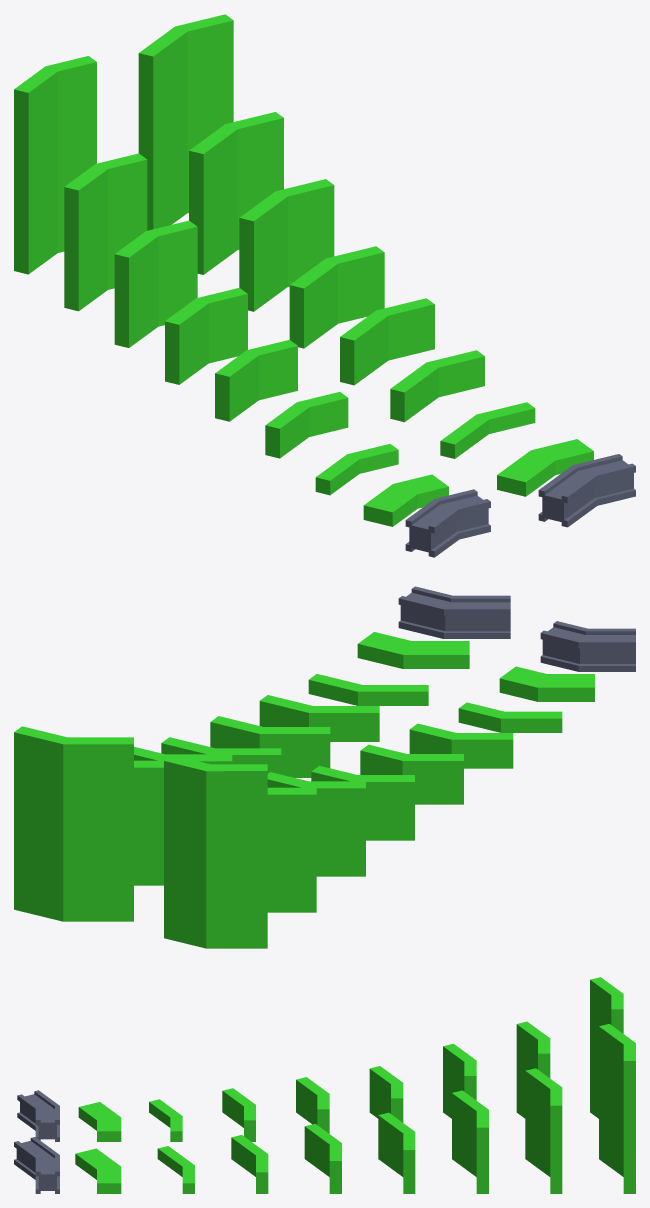
The model's file is Starbase_30Deg_AngledPlates_Cleaned.fbx.
3 views of the same model, one above another, from view 1: azimuth 30°, elevation 25°; view 2: azimuth 150°, elevation 25°; view 3: azimuth 270°, elevation 25° (orthographic). The views are drawn at different scales.
Parts seen in each view (by area): view 1: AnglePlate_Large_144, AnglePlate_Small_144, AnglePlate_Large_96, AnglePlate_Small_96, AnglePlate_Large_72, AnglePlate_Small_72, AnglePlate_Large_48, AnglePlate_Small_48, AnglePlate_Large_36, AnglePlate_Small_36, AngledBeam_Large, AngledBeam_Small (+6 smaller); view 2: AnglePlate_Large_144, AnglePlate_Small_144, AnglePlate_Small_96, AnglePlate_Small_72, AngledBeam_Large, AnglePlate_Large_36, AngledBeam_Small, AnglePlate_Small_36, AnglePlate_Small_48, AnglePlate_Large_96, AnglePlate_Large_24, AnglePlate_Small_24 (+6 smaller); view 3: AnglePlate_Large_144, AnglePlate_Large_96, AnglePlate_Large_72, AnglePlate_Small_144, AnglePlate_Large_48, AnglePlate_Small_96, AngledBeam_Large, AnglePlate_Large_36, AnglePlate_Small_72, AngledBeam_Small, AnglePlate_Small_48, AnglePlate_Small_36 (+6 smaller).
Boxes of the visible parts, x1,y1,x2,y2 form: AnglePlate_Large_144: (138,14,233,230); AnglePlate_Small_144: (14,56,96,274); AnglePlate_Large_96: (189,112,283,274); AnglePlate_Small_96: (64,153,147,311); AnglePlate_Large_72: (239,179,334,311); AnglePlate_Small_72: (114,220,197,347); AnglePlate_Large_48: (289,246,384,348); AnglePlate_Small_48: (165,287,247,384); AnglePlate_Large_36: (340,298,434,385); AnglePlate_Small_36: (215,339,297,421); AngledBeam_Large: (538,454,635,527); AngledBeam_Small: (405,489,490,557); AnglePlate_Large_144: (14,726,133,921); AnglePlate_Small_144: (164,755,267,948); AnglePlate_Small_96: (267,787,316,912); AnglePlate_Small_72: (267,772,365,876); AngledBeam_Large: (398,586,510,638); AnglePlate_Large_36: (210,716,330,777); AngledBeam_Small: (540,621,635,671); AnglePlate_Small_36: (360,744,463,804); AnglePlate_Small_48: (311,765,414,840); AnglePlate_Large_96: (134,760,163,885); AnglePlate_Large_24: (259,695,379,741); AnglePlate_Small_24: (409,723,513,768); AnglePlate_Large_144: (599,1024,635,1193); AnglePlate_Large_96: (525,1068,562,1193); AnglePlate_Large_72: (452,1090,488,1193); AnglePlate_Small_144: (590,977,623,1118); AnglePlate_Large_48: (378,1112,415,1193); AnglePlate_Small_96: (516,1021,550,1118); AngledBeam_Large: (14,1137,59,1193); AnglePlate_Large_36: (304,1123,341,1193); AnglePlate_Small_72: (443,1044,476,1118); AngledBeam_Small: (17,1090,59,1141); AnglePlate_Small_48: (369,1066,403,1122); AnglePlate_Small_36: (296,1077,329,1133).
Size of the model in its own units: 195 by 143 by 609.
